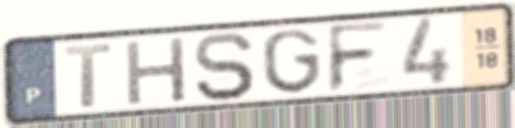4: (398, 15, 457, 88)
F: (325, 18, 393, 95)
G: (258, 26, 325, 96)
H: (123, 34, 190, 109)
S: (192, 30, 258, 103)
T: (62, 41, 116, 111)
